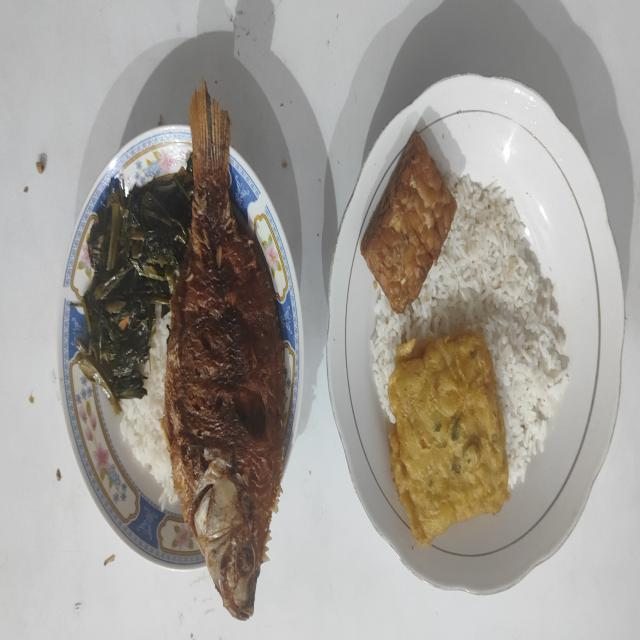ikan_mujair: (163, 86, 285, 619)
nasi_putih: (371, 174, 568, 488), (120, 314, 179, 509)
tempe_goreng: (361, 131, 456, 313)
tumis_kangkung: (75, 154, 194, 406)
